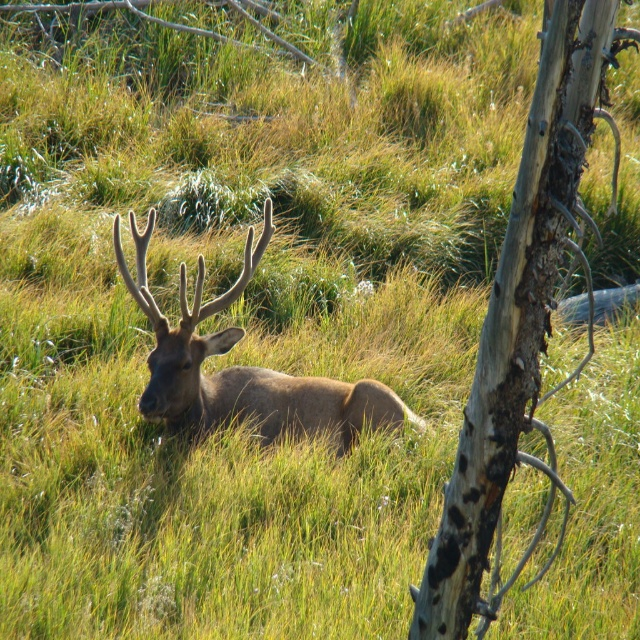Deer: (109, 189, 441, 461)
